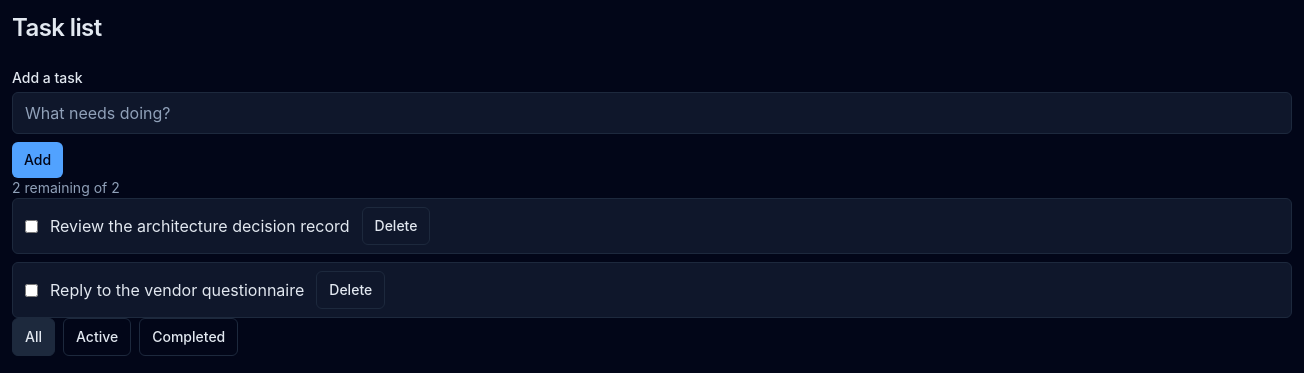
Test: TasksPage › removes a task through its delete control
Click the button with test id "delete-task-button" next to "Review the architecture decision record" at x=396, y=226, box [362,207,430,245]
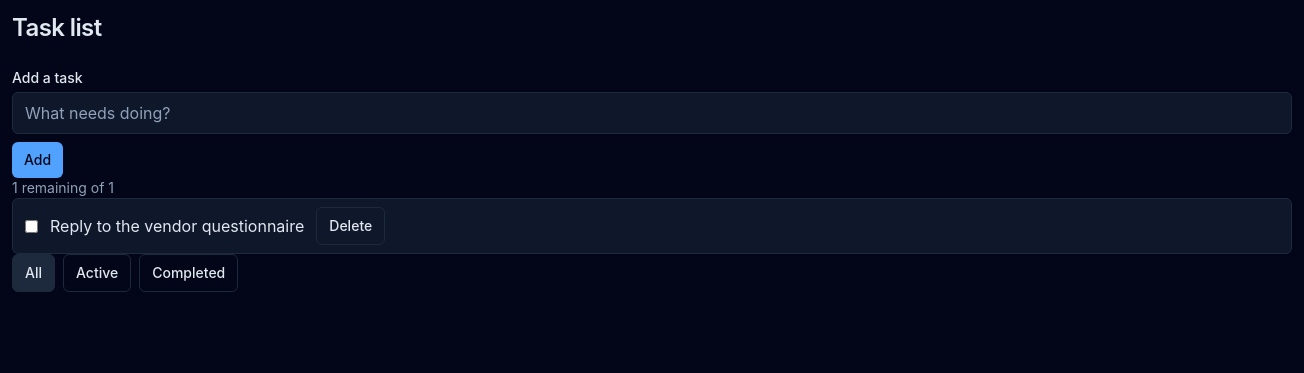
Expected: the text with test id "task-title" reads "Reply to the vendor questionnaire", [50,216,304,236]
Now the number of elements with test id "task-title" is 1, box [50,214,304,238]
